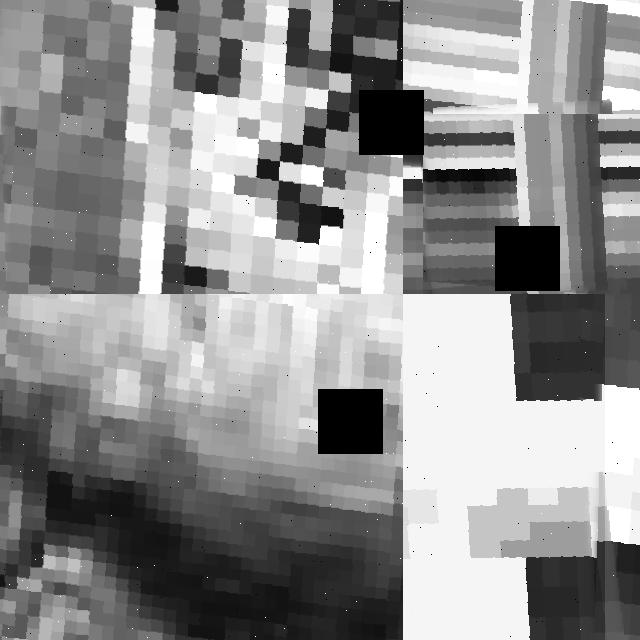arms: (0, 294, 403, 640), (0, 0, 403, 294), (403, 294, 605, 640), (403, 0, 640, 192), (514, 294, 640, 640), (423, 114, 640, 294)
